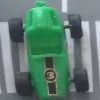carro: (11, 3, 85, 96)
